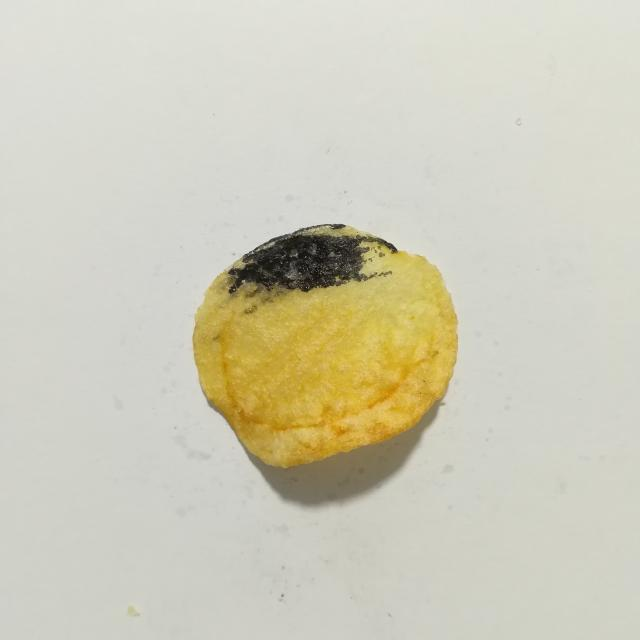chip: (193, 224, 457, 466)
damaged: (227, 224, 398, 314)
